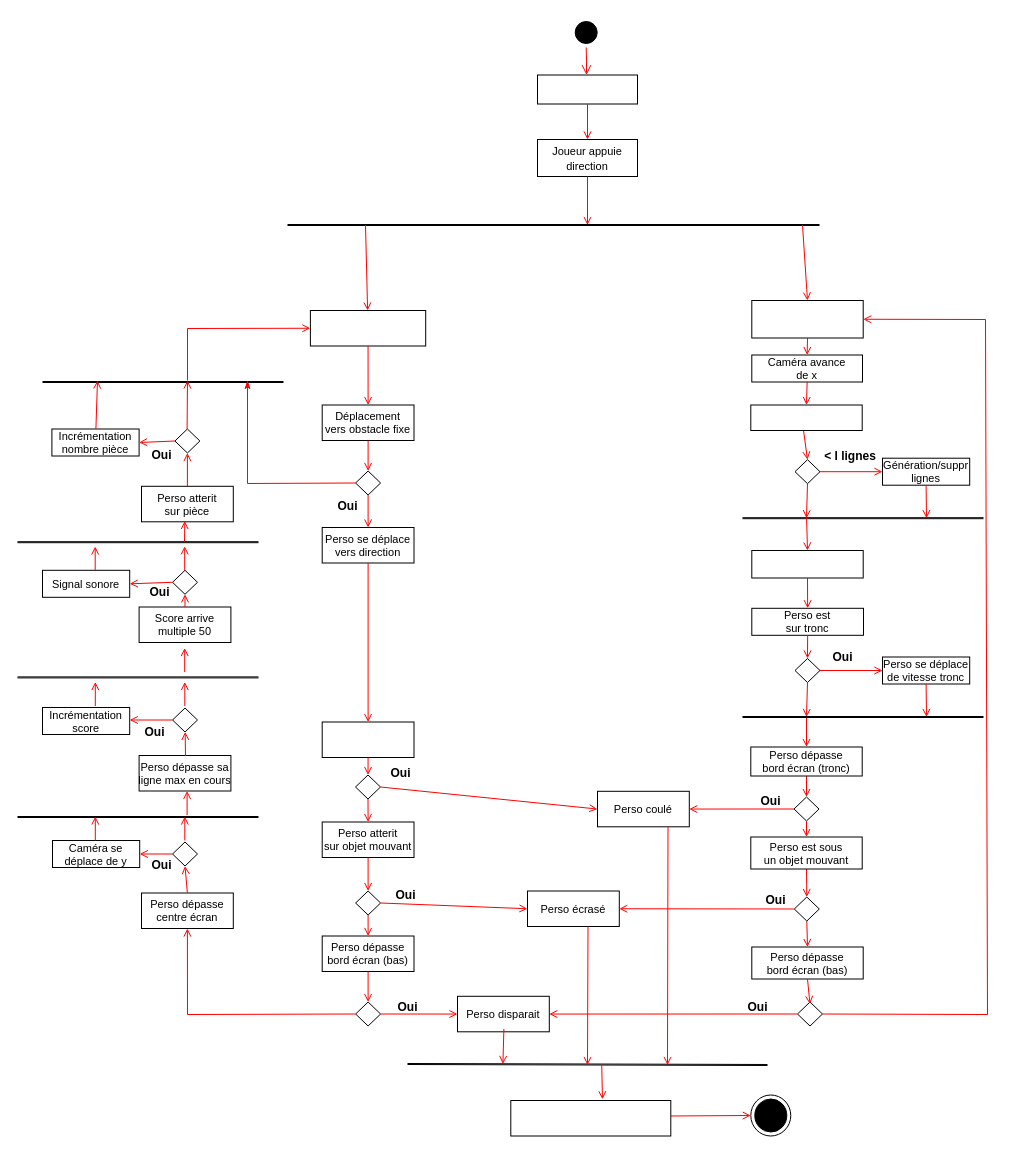
This 1013x1154 diagram has some shape labels left out. Here are the shapes that lost their labels. From the top down, the centre of each, then its label:
point 587,89: Affichage écran démarrage
point 367,328: Boucle input tant que perso vivant
point 807,319: Boucle sur t temps tant que perso vivant
point 806,417: Position entre perso et dernière ligne
point 807,564: Déplacement des objets hors perso
point 367,739: Perso atterit dans l'eau
point 590,1118: Envoi signal mort du perso
